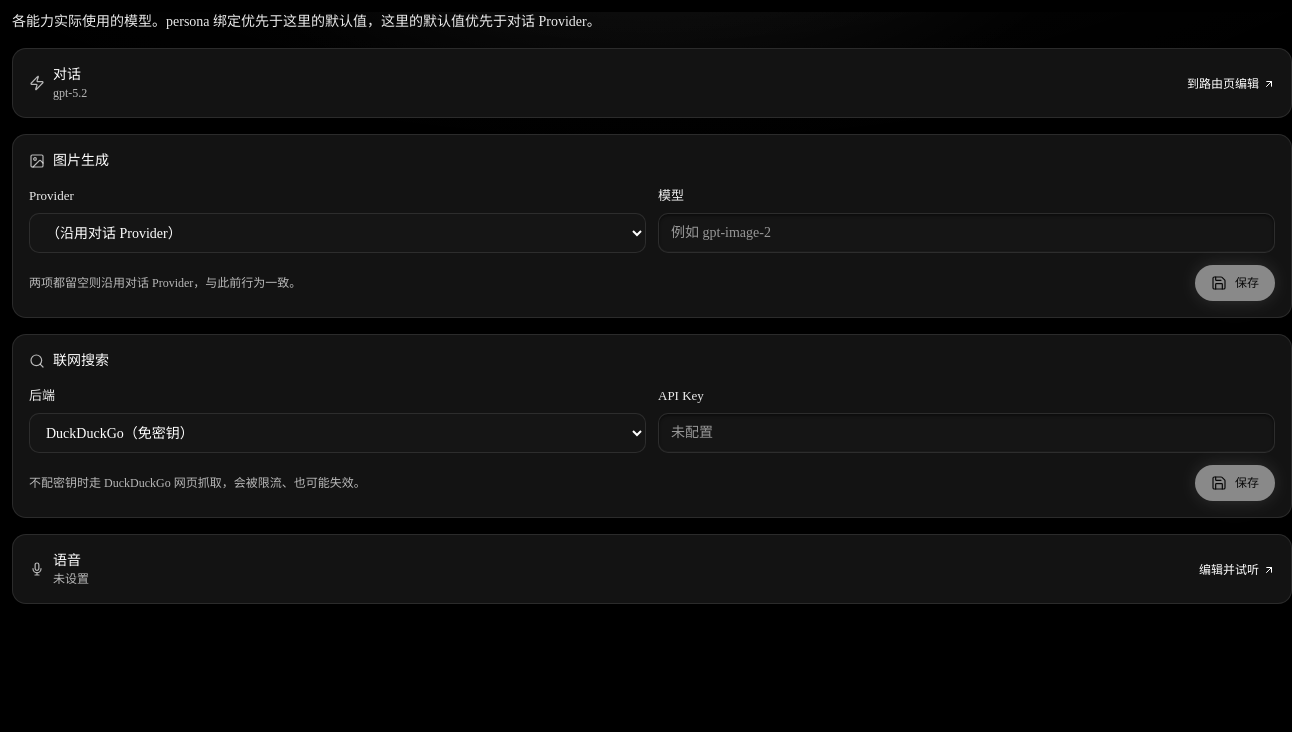
Test: CapabilitiesSection — web search › keeps Save disabled until something changes
This screenshot has width=1292, height=732.
Check: the button with test id "capability-search-save" is disabled, box [1195,465,1275,501]
Select "serpapi" in the dropdown with test id "capability-search-backend" at point(338, 433), box [29,413,646,453]
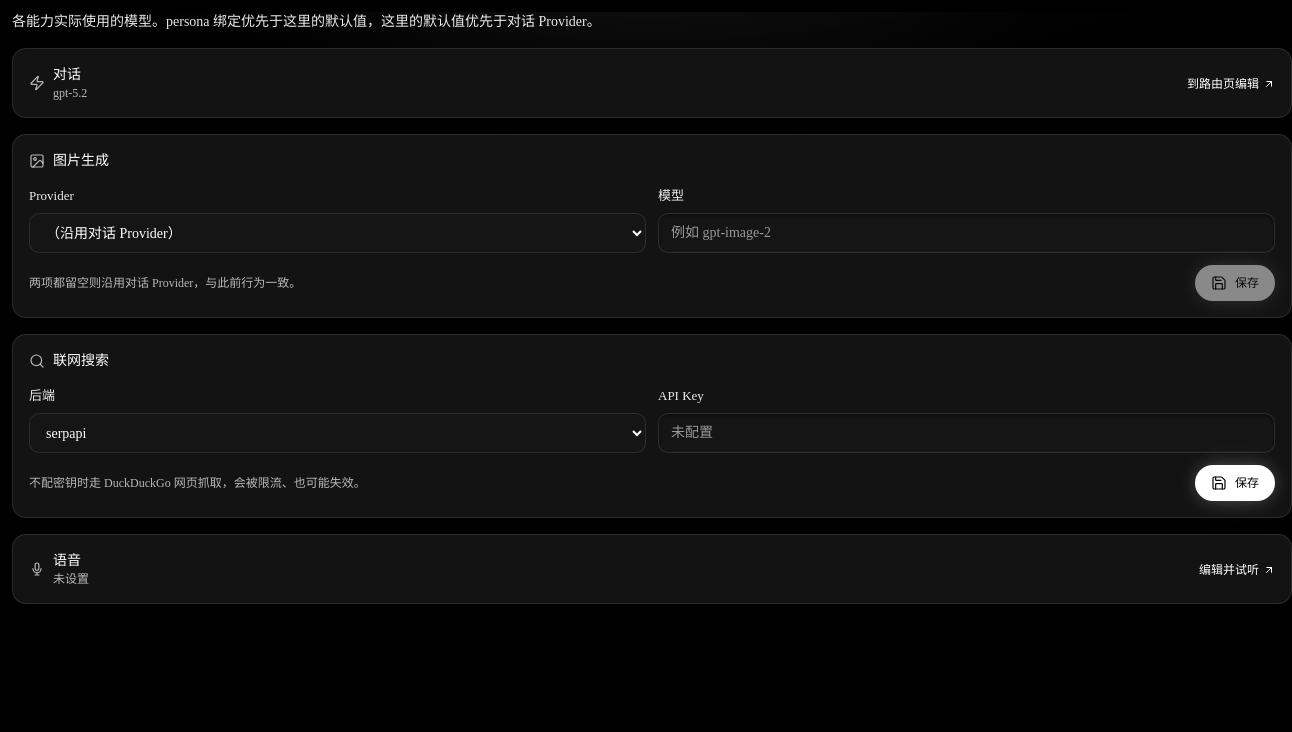
Check: the button with test id "capability-search-save" is enabled, box [1195,465,1275,501]
